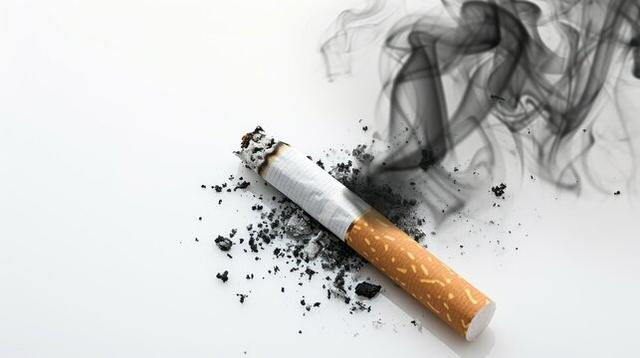Cigarette: (233, 124, 496, 342)
